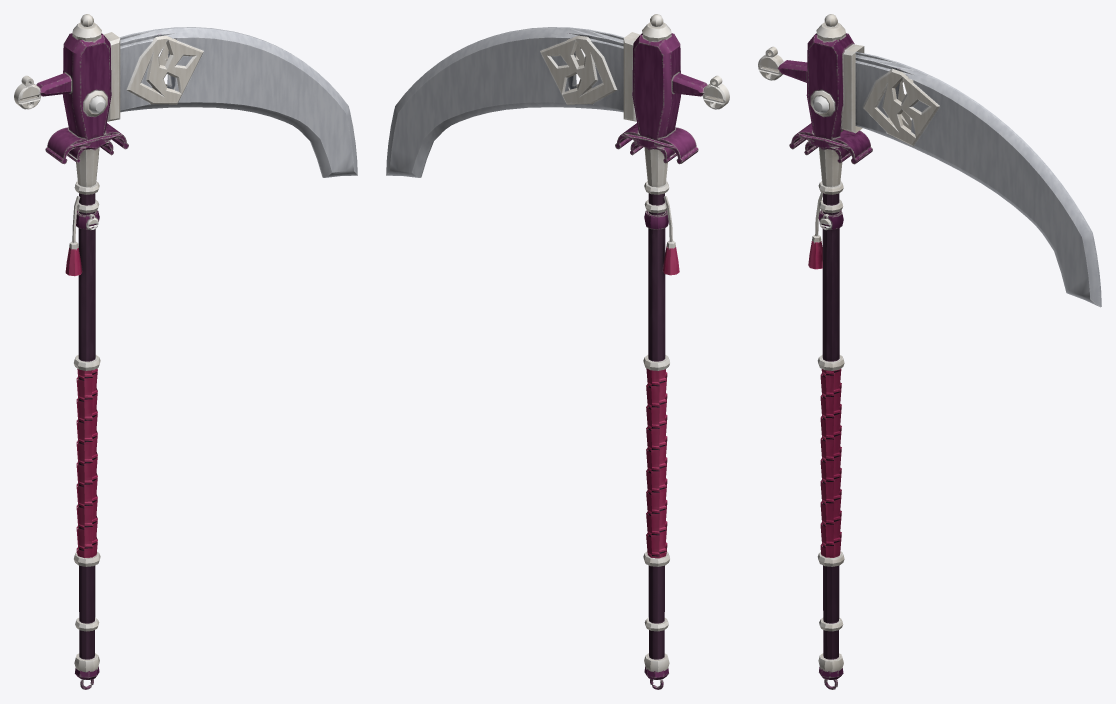
File: Final Act.fbx
3 renders of one model, left to right at view 1: azimuth 30°, elevation 25°; view 2: azimuth 150°, elevation 25°; view 3: azimuth 330°, elevation 25°, orthographic.
Parts seen in each view (by area): view 1: Final Act_Body; view 2: Final Act_Body; view 3: Final Act_Body.
Part boxes in pixels (box(x1,y1,x2,y2)): Final Act_Body: box(14, 14, 357, 689); Final Act_Body: box(386, 14, 729, 689); Final Act_Body: box(758, 14, 1101, 689).
Size of the model in its own units: 3.26 by 6.16 by 0.39.
